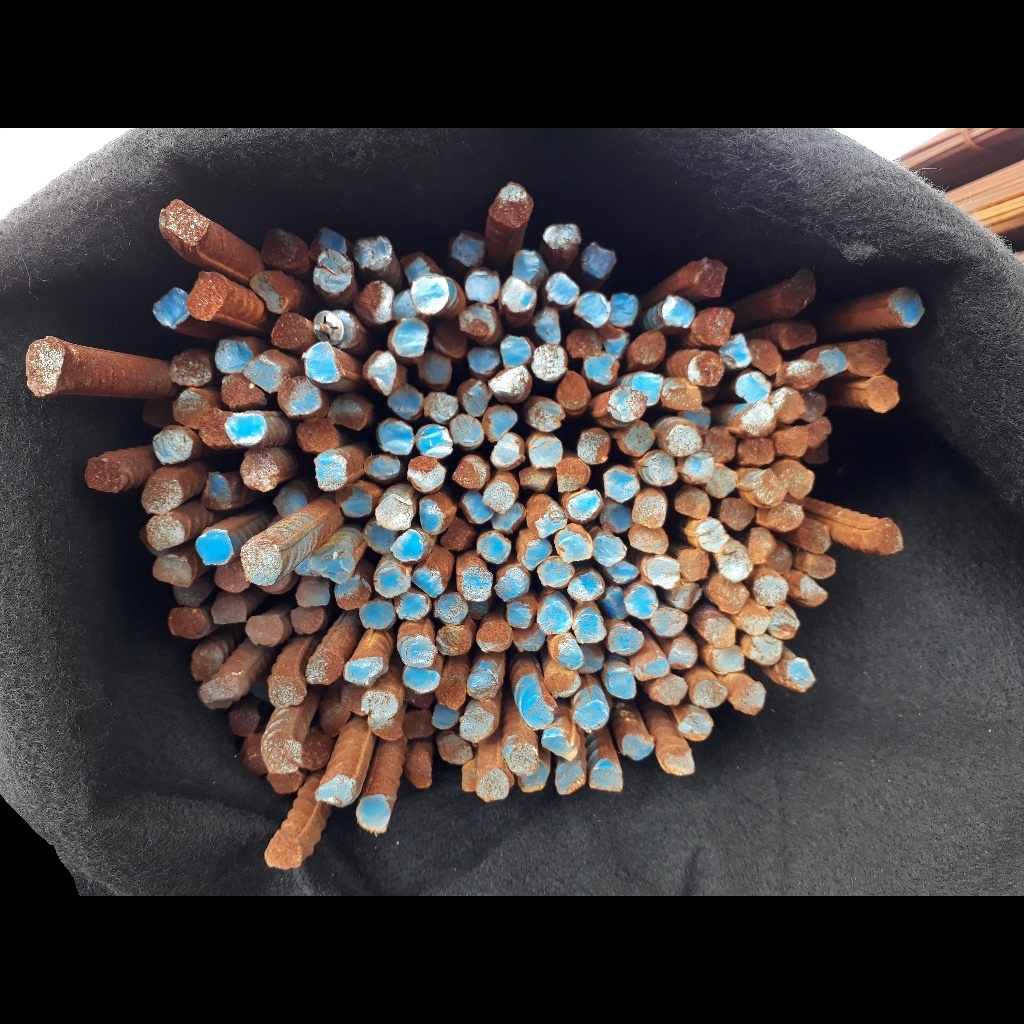dipstick: (23, 339, 65, 397), (259, 228, 310, 273), (166, 200, 209, 253), (486, 182, 533, 229), (312, 247, 355, 296), (187, 270, 228, 321), (249, 270, 294, 315), (351, 280, 395, 325), (703, 573, 750, 614), (278, 376, 323, 418), (240, 541, 282, 586), (888, 282, 927, 327), (327, 392, 369, 433), (778, 270, 818, 313), (389, 316, 429, 359), (310, 546, 355, 583), (408, 275, 451, 313), (173, 386, 211, 429), (169, 349, 212, 387), (200, 672, 244, 709), (142, 475, 181, 516), (84, 456, 125, 495), (489, 366, 532, 403), (243, 356, 286, 393), (363, 351, 397, 397), (302, 344, 342, 383), (240, 450, 278, 491), (390, 289, 432, 326), (848, 340, 891, 376), (375, 492, 414, 531), (431, 320, 471, 358), (221, 373, 261, 411), (606, 387, 648, 423), (312, 448, 347, 491), (294, 420, 341, 452), (307, 226, 346, 264), (418, 498, 458, 535), (320, 308, 357, 348), (264, 834, 304, 871), (153, 427, 193, 464), (260, 737, 301, 773), (226, 411, 267, 447), (150, 554, 194, 587), (555, 372, 592, 411), (458, 304, 497, 341), (487, 433, 526, 470), (524, 395, 564, 431), (614, 423, 656, 457), (500, 276, 538, 313), (270, 314, 309, 350), (196, 530, 235, 566), (209, 593, 249, 628), (741, 632, 783, 665), (299, 729, 331, 772), (530, 345, 567, 382), (481, 404, 518, 441), (452, 454, 489, 491), (867, 517, 903, 555), (739, 401, 777, 437), (408, 457, 446, 493), (377, 419, 415, 455), (779, 460, 814, 499), (463, 270, 502, 305), (356, 795, 391, 834), (304, 651, 343, 686), (145, 514, 184, 549), (343, 656, 387, 687), (631, 487, 665, 527), (693, 257, 726, 298), (552, 529, 593, 562), (315, 775, 357, 807), (734, 370, 771, 406), (355, 238, 392, 274), (768, 388, 806, 423), (697, 310, 735, 345), (731, 600, 770, 634), (201, 407, 235, 446), (735, 435, 776, 467), (169, 607, 211, 638), (602, 467, 638, 503), (703, 463, 738, 500), (415, 351, 452, 386), (540, 727, 578, 761), (334, 576, 372, 610), (200, 471, 233, 510), (240, 734, 272, 774), (647, 673, 688, 704), (548, 634, 583, 670), (449, 414, 485, 449), (716, 547, 753, 581), (386, 386, 423, 420), (439, 517, 476, 551), (768, 603, 801, 641), (686, 352, 724, 385), (213, 559, 251, 592), (244, 612, 283, 644), (775, 322, 818, 351), (165, 289, 196, 329), (406, 746, 434, 790), (459, 490, 494, 525), (643, 452, 679, 486), (502, 742, 538, 776), (575, 294, 611, 328), (417, 425, 453, 459), (362, 518, 396, 554), (316, 700, 350, 736), (658, 745, 695, 778), (422, 390, 459, 423), (494, 570, 532, 602), (437, 734, 475, 766), (335, 485, 373, 517), (717, 334, 752, 368), (189, 645, 224, 679), (750, 472, 786, 505), (786, 358, 822, 391), (580, 243, 616, 276), (484, 478, 517, 514), (476, 530, 512, 563), (458, 709, 494, 742), (374, 565, 410, 598), (583, 353, 620, 385), (437, 672, 469, 709), (358, 599, 395, 631), (675, 710, 713, 741), (628, 524, 670, 552), (774, 425, 808, 459), (625, 586, 659, 620), (572, 609, 606, 643), (477, 621, 511, 655), (460, 567, 493, 602), (389, 529, 424, 562), (747, 342, 783, 374), (567, 490, 603, 522), (451, 234, 487, 266), (394, 589, 430, 621), (719, 498, 756, 529), (459, 380, 490, 417), (269, 676, 306, 707), (752, 577, 790, 607), (673, 490, 711, 520), (627, 334, 665, 364), (537, 558, 575, 588), (361, 690, 399, 720), (867, 376, 901, 409), (646, 556, 680, 589), (524, 696, 557, 730), (511, 250, 545, 283), (514, 760, 549, 792), (606, 292, 638, 327), (434, 593, 469, 625), (274, 485, 309, 517), (574, 433, 610, 464), (368, 710, 404, 741), (289, 605, 325, 636), (398, 637, 435, 667), (747, 527, 776, 565), (540, 223, 579, 251), (677, 548, 709, 582), (575, 701, 609, 733), (226, 704, 260, 736), (785, 658, 816, 693), (661, 297, 696, 328), (592, 535, 627, 566), (608, 626, 644, 656), (474, 771, 510, 801), (511, 623, 547, 653), (767, 502, 805, 530), (665, 639, 698, 671), (557, 460, 590, 492), (546, 273, 579, 305), (528, 435, 561, 467), (599, 502, 633, 533), (596, 585, 627, 619), (401, 708, 435, 739), (737, 682, 767, 717), (491, 504, 526, 534), (545, 670, 581, 699), (566, 330, 602, 359), (662, 382, 702, 408), (651, 609, 689, 636), (566, 573, 604, 600), (696, 521, 728, 553), (532, 311, 564, 343), (803, 550, 836, 581), (500, 333, 531, 366), (411, 566, 444, 597), (466, 671, 500, 701), (295, 579, 329, 609), (532, 509, 567, 538), (365, 454, 400, 483), (813, 347, 849, 375), (691, 678, 727, 706), (588, 764, 624, 792), (435, 628, 471, 656), (665, 582, 702, 609), (664, 426, 701, 453), (703, 427, 734, 459), (606, 668, 638, 699), (340, 683, 371, 715), (711, 645, 744, 675), (401, 255, 434, 285), (402, 666, 440, 692), (537, 606, 571, 635), (171, 579, 210, 604), (555, 763, 586, 794), (630, 373, 662, 403), (267, 769, 305, 794), (798, 577, 829, 607), (226, 339, 253, 373), (467, 348, 502, 374), (622, 733, 654, 761), (576, 642, 604, 674), (518, 466, 553, 491), (602, 561, 640, 584), (523, 540, 553, 569), (804, 522, 832, 553), (634, 658, 670, 681), (602, 323, 626, 357), (505, 601, 533, 630), (705, 620, 735, 647), (431, 703, 461, 730), (804, 418, 830, 447), (801, 392, 827, 420), (679, 407, 711, 429), (765, 550, 789, 572)
